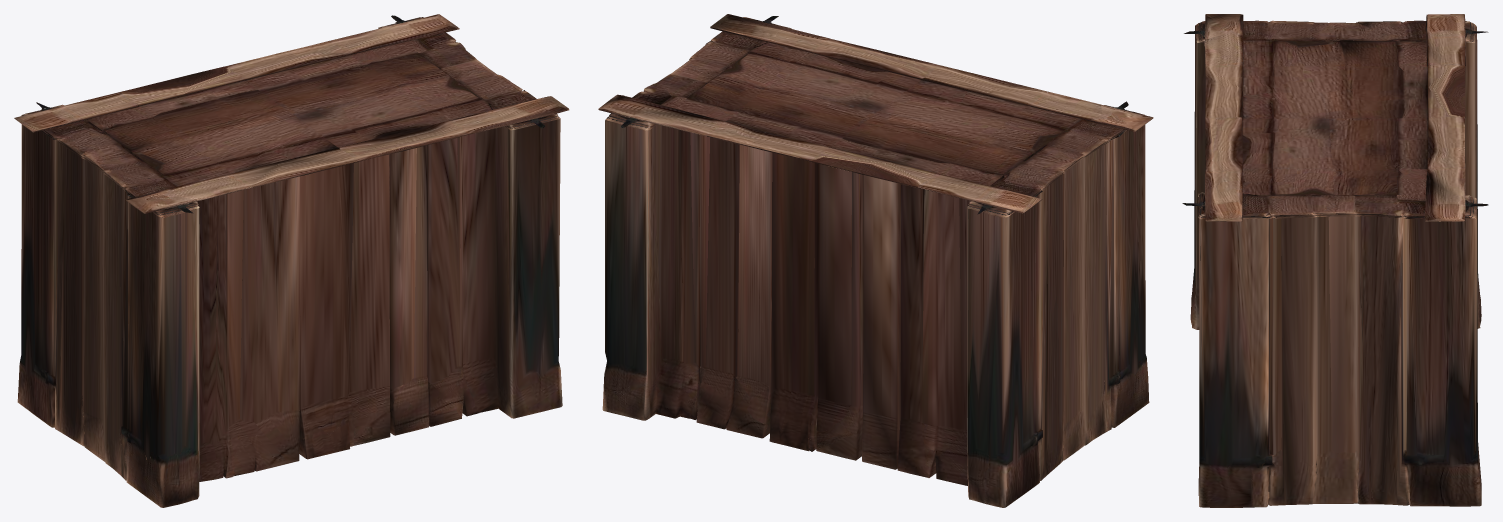
File: duck-beam-frame.glb
3 views of the same model, side by side, from view 1: azimuth 30°, elevation 25°; view 2: azimuth 150°, elevation 25°; view 3: azimuth 270°, elevation 25° (orthographic).
Parts seen in each view (by area): view 1: duck-beam-frame; view 2: duck-beam-frame; view 3: duck-beam-frame.
Boxes of the visible parts, bbox=[...] form: duck-beam-frame: bbox=[14, 14, 569, 507]; duck-beam-frame: bbox=[598, 14, 1153, 507]; duck-beam-frame: bbox=[1182, 14, 1488, 507].
Bounding box in the file's own units: 3.2 × 2.1 × 2.
Materials: 1 (1 with a texture image).
